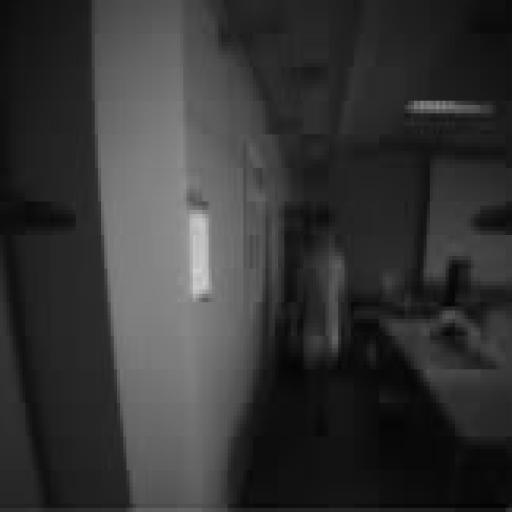human: (301, 219, 350, 432)
